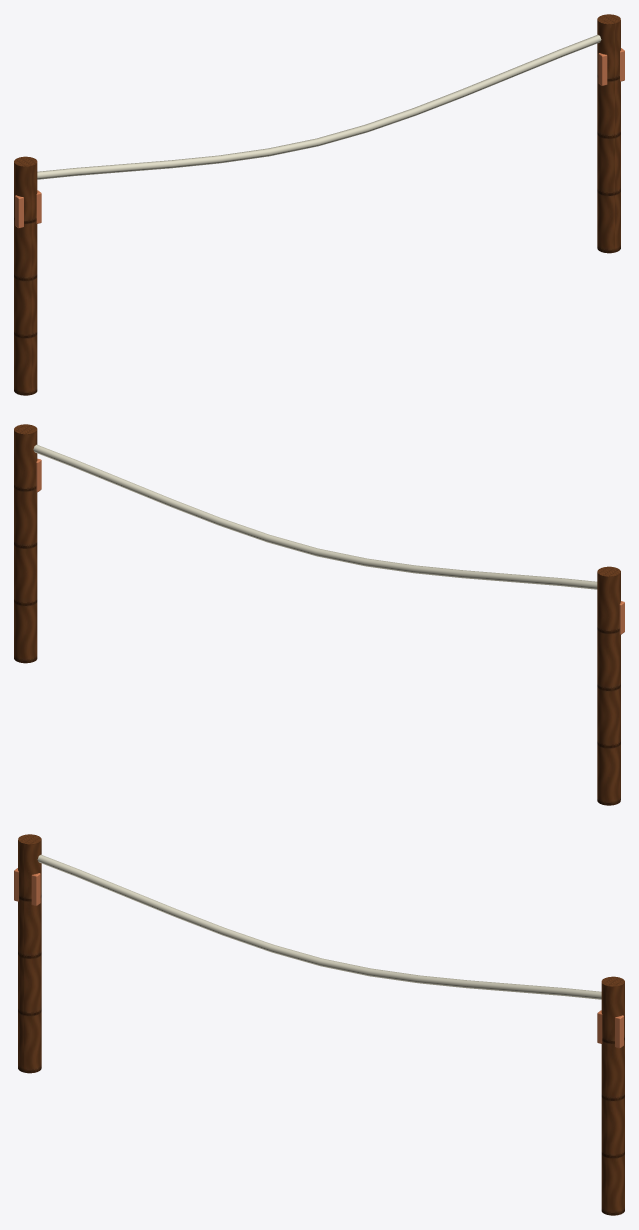
File: prehistoric-expedition-sites-excavation-boundary-rope-e1373937__26131.glb
3 renders of one model, top to bottom at view 1: azimuth 30°, elevation 25°; view 2: azimuth 150°, elevation 25°; view 3: azimuth 330°, elevation 25°, orthographic.
Parts seen in each view (by area): view 1: excavation-boundary-rope; view 2: excavation-boundary-rope; view 3: excavation-boundary-rope.
Boxes of the visible parts, left/top/right/bottom form: excavation-boundary-rope: left=14, top=14, right=624, bottom=395; excavation-boundary-rope: left=14, top=424, right=624, bottom=805; excavation-boundary-rope: left=14, top=834, right=624, bottom=1215.
Bounding box in the file's own units: 2.08 × 0.7501 × 0.07.
Materials: 3 (1 with a texture image).
